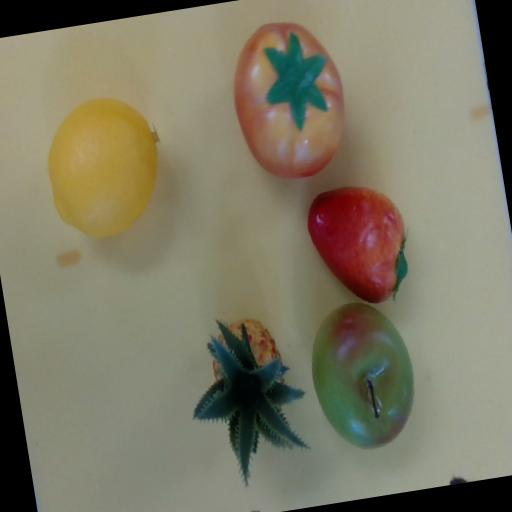apple: (306, 299, 418, 452)
lemon: (45, 96, 158, 238)
mango: (301, 177, 417, 313)
pineapple: (157, 300, 332, 489)
tomato: (230, 19, 347, 179)
